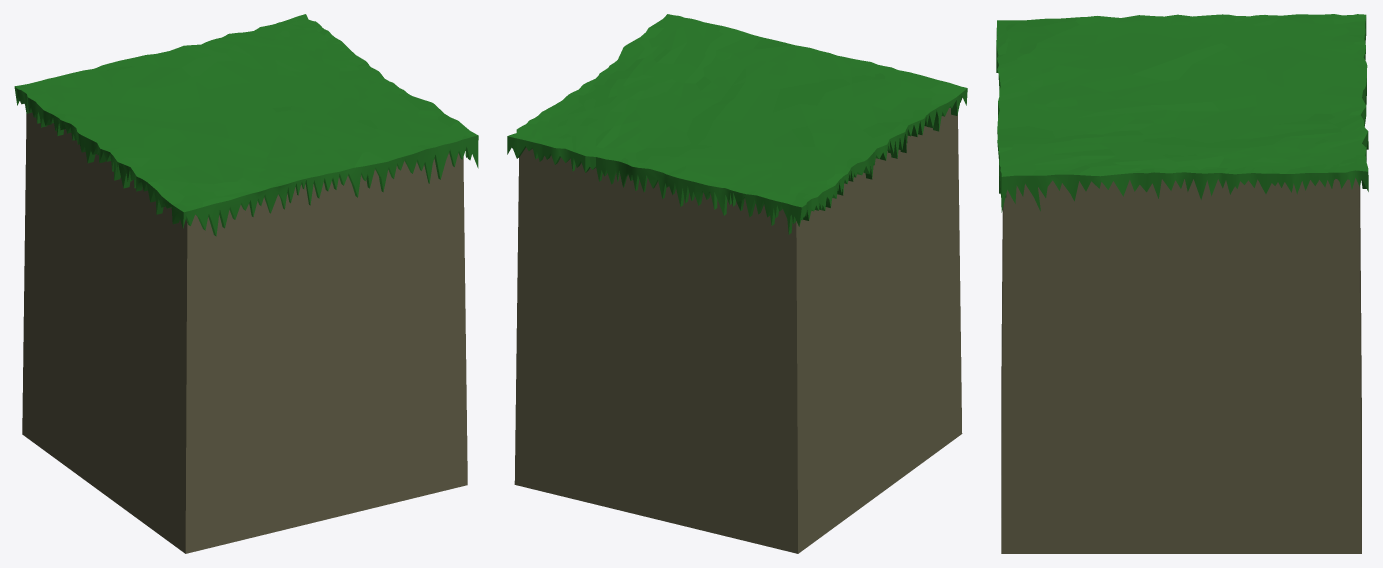
Rendered from grass_layer_square_medium.fbx.
3 views of the same model, side by side, from view 1: azimuth 30°, elevation 25°; view 2: azimuth 150°, elevation 25°; view 3: azimuth 270°, elevation 25° (orthographic). The views are drawn at different scales.
Parts seen in each view (by area): view 1: grass_layer_square_medium_base, grass_layer_square_medium; view 2: grass_layer_square_medium_base, grass_layer_square_medium; view 3: grass_layer_square_medium_base, grass_layer_square_medium.
Part boxes in pixels (x1,y1,x2,y2): grass_layer_square_medium_base: (22, 112, 467, 553); grass_layer_square_medium: (14, 14, 478, 236); grass_layer_square_medium_base: (514, 108, 962, 553); grass_layer_square_medium: (507, 14, 967, 234); grass_layer_square_medium_base: (1001, 178, 1361, 553); grass_layer_square_medium: (996, 14, 1368, 212).
Size of the model in its own units: 1452 by 1607 by 1411.
